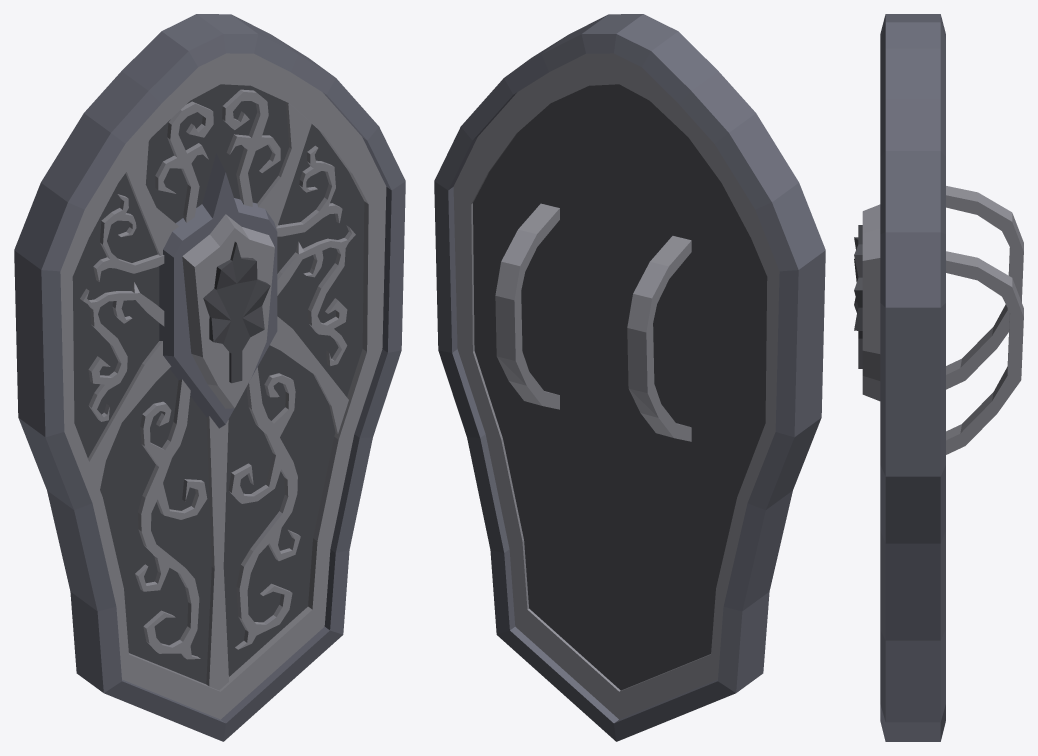
File: _Shield_7.fbx
3 views of the same model, side by side, from view 1: azimuth 30°, elevation 25°; view 2: azimuth 150°, elevation 25°; view 3: azimuth 270°, elevation 25° (orthographic).
Parts seen in each view (by area): view 1: Shield_7; view 2: Shield_7; view 3: Shield_7.
Boxes of the visible parts, bbox=[...] form: Shield_7: bbox=[14, 14, 405, 741]; Shield_7: bbox=[434, 14, 825, 741]; Shield_7: bbox=[854, 14, 1023, 741].
Size of the model in its own units: 57.45 by 107 by 22.82.
